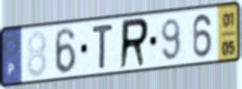6: (53, 25, 79, 77), (191, 11, 214, 60)
8: (25, 28, 50, 80)
9: (159, 16, 185, 63)
R: (118, 16, 151, 72)
T: (91, 22, 115, 71)
